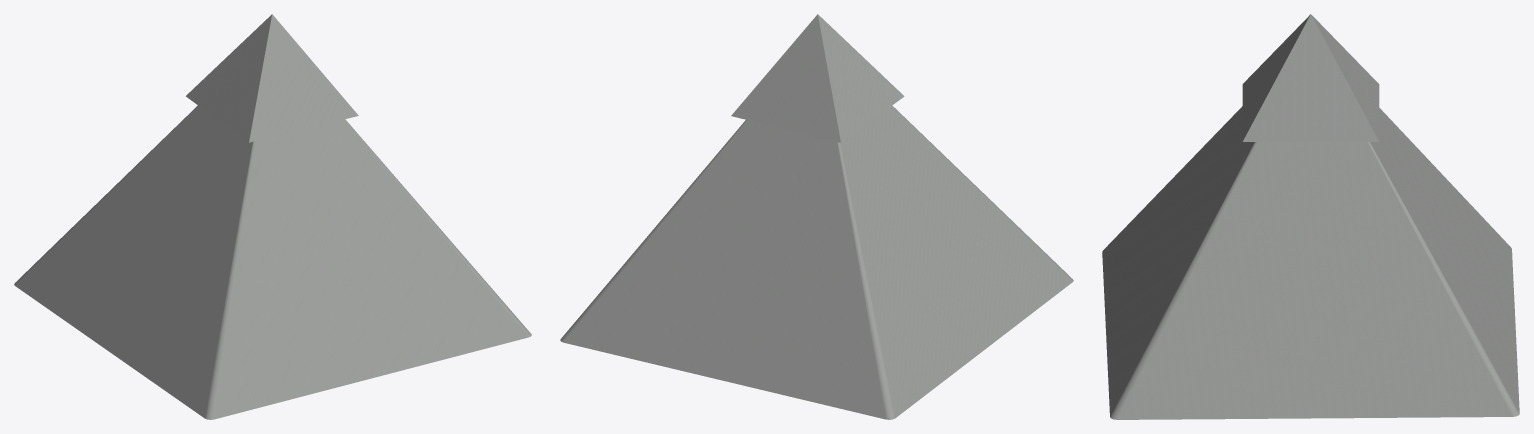
The model's file is roof.glb.
The picture shows the model from 3 angles, left to right: view 1: azimuth 30°, elevation 25°; view 2: azimuth 150°, elevation 25°; view 3: azimuth 270°, elevation 25°; orthographic projection. The views are drawn at different scales.
Visible parts, largest first — view 1: Zinc.001; view 2: Zinc.001; view 3: Zinc.001.
Part boxes in pixels (x1,y1,x2,y2): Zinc.001: (14, 14, 531, 419); Zinc.001: (560, 14, 1073, 419); Zinc.001: (1102, 14, 1519, 419).
Size of the model in its own units: 61.58 by 52 by 61.58.
1 material, 1 textured.
